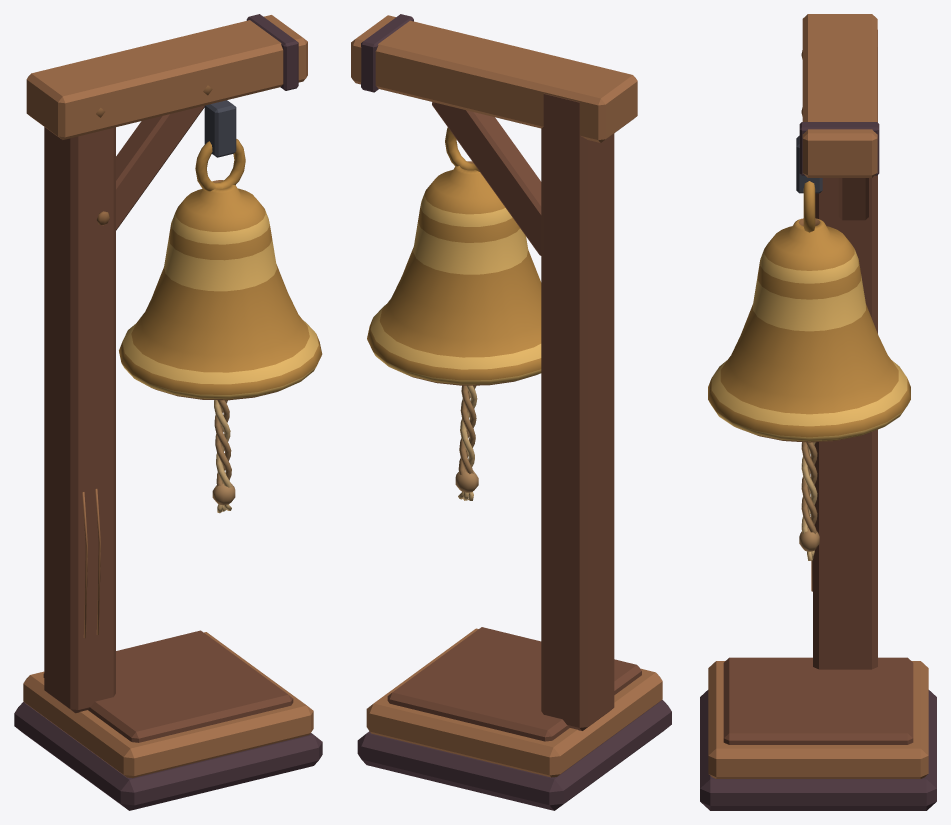
Rendered from ship_bell.glb.
3 views of the same model, side by side, from view 1: azimuth 30°, elevation 25°; view 2: azimuth 150°, elevation 25°; view 3: azimuth 270°, elevation 25° (orthographic).
Visible parts, largest first — view 1: ship_bell; view 2: ship_bell; view 3: ship_bell.
Part boxes in pixels (box(x1,y1,x2,y2)): ship_bell: box(14, 14, 322, 810); ship_bell: box(351, 14, 671, 810); ship_bell: box(700, 14, 936, 810).
Size of the model in its own units: 0.5 by 1.3 by 0.4.
